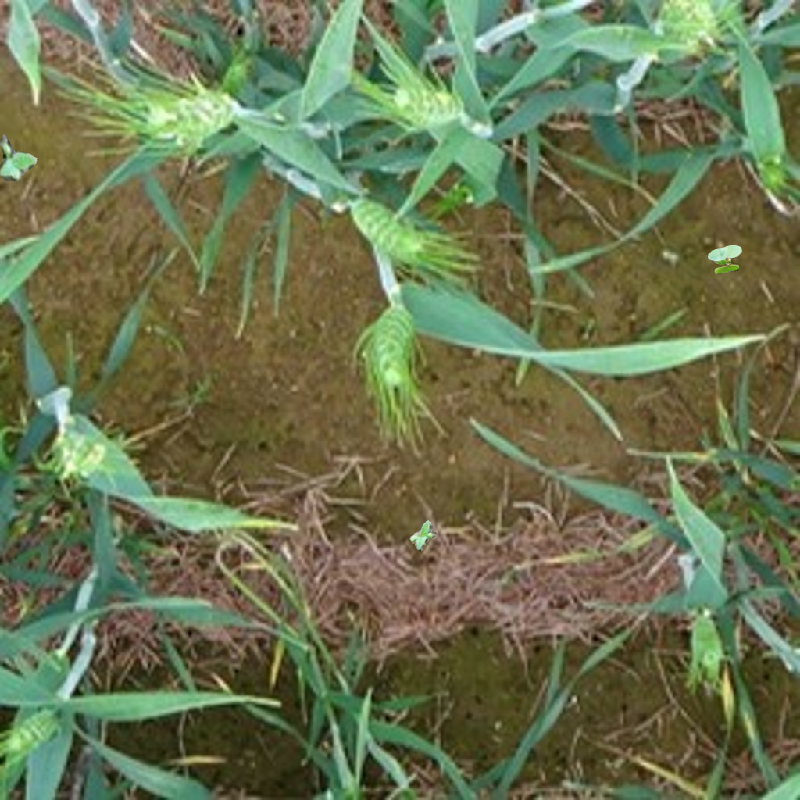spikelet: (348, 194, 463, 273), (143, 85, 240, 148), (360, 300, 418, 391), (50, 411, 109, 480), (390, 80, 464, 130), (1, 701, 64, 758), (657, 1, 727, 45)
weed: (1, 126, 43, 187), (406, 519, 443, 555), (708, 245, 742, 274)
